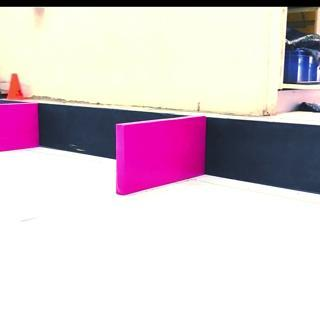xparking: (117, 122, 205, 184), (1, 104, 38, 146)
